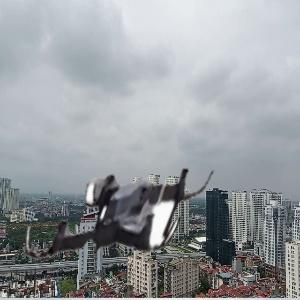drone: (32, 133, 198, 299)
